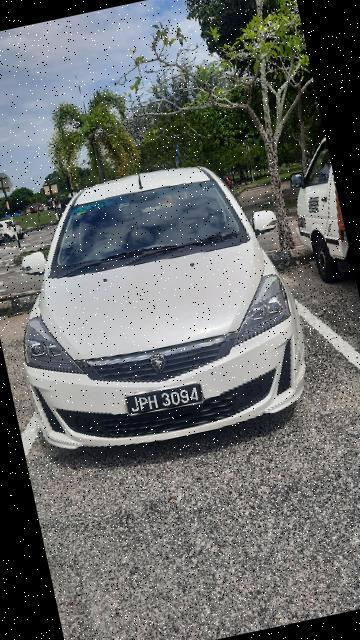License_Plate: (122, 379, 207, 423)
car: (1, 140, 327, 473)
